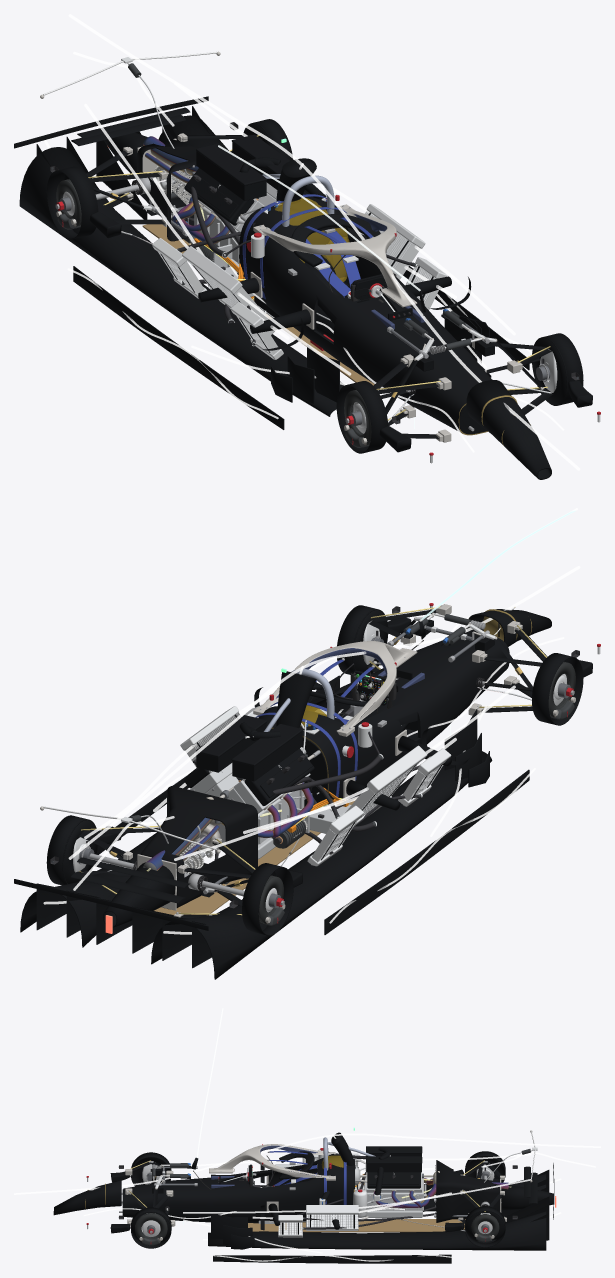
Rendered from sistemas-v1.glb.
3 renders of one model, top to bottom at view 1: azimuth 30°, elevation 25°; view 2: azimuth 150°, elevation 25°; view 3: azimuth 270°, elevation 25°, orthographic. The views are drawn at different scales.
Parts seen in each view (by area): view 1: structure__045__Célula de sobrevivência · sanduíche de carbo, aero__005__Túnel venturi direito · teto do assoalho, safety__842__Cone de impacto dianteiro · laminado, aero__006__Cerca de borda do assoalho direito, safety__831__Halo · arco principal, aero__042__Fluxo externo · eixo central, transmission__719__Carcaça do câmbio · estrutural, brakes__273__Tambor de refrigeração do freio traseiro direit, brakes__251__Tambor de refrigeração do freio dianteiro direi, cockpit__902__HANS · colar de carbono, fuel__684__Bexiga flexível · Kevlar/nitrílica, aero__032__Defletor lateral 1 direito (+29 smaller); view 2: structure__045__Célula de sobrevivência · sanduíche de carbo, aero__005__Túnel venturi direito · teto do assoalho, transmission__719__Carcaça do câmbio · estrutural, aero__006__Cerca de borda do assoalho direito, aero__001__Túnel venturi esquerdo · teto do assoalho, safety__831__Halo · arco principal, brakes__273__Tambor de refrigeração do freio traseiro direit, aero__042__Fluxo externo · eixo central, safety__846__Estrutura de impacto traseira, brakes__251__Tambor de refrigeração do freio dianteiro direi, structure__071__Plank · skid block, power__434__Snorkel do airbox → compressor (+28 smaller); view 3: structure__045__Célula de sobrevivência · sanduíche de carbo, aero__001__Túnel venturi esquerdo · teto do assoalho, transmission__719__Carcaça do câmbio · estrutural, aero__002__Cerca de borda do assoalho esquerdo, structure__071__Plank · skid block, safety__842__Cone de impacto dianteiro · laminado, aero__042__Fluxo externo · eixo central, safety__831__Halo · arco principal, safety__846__Estrutura de impacto traseira, power__333__Bloco do motor · cárter superior, aero__043__Fluxo externo · sidepod esquerdo, cooling__565__Intercooler ar-ar · núcleo aletado (+21 smaller).
Boxes of the visible parts, x1,y1,x2,y2 form: structure__045__Célula de sobrevivência · sanduíche de carbo: [239, 196, 491, 435]; aero__005__Túnel venturi direito · teto do assoalho: [19, 147, 344, 416]; safety__842__Cone de impacto dianteiro · laminado: [466, 379, 551, 479]; aero__006__Cerca de borda do assoalho direito: [73, 266, 284, 429]; safety__831__Halo · arco principal: [261, 208, 412, 303]; aero__042__Fluxo externo · eixo central: [68, 14, 580, 470]; transmission__719__Carcaça do câmbio · estrutural: [137, 139, 198, 241]; brakes__273__Tambor de refrigeração do freio traseiro direit: [46, 166, 98, 239]; brakes__251__Tambor de refrigeração do freio dianteiro direi: [336, 381, 388, 453]; cockpit__902__HANS · colar de carbono: [291, 214, 380, 267]; fuel__684__Bexiga flexível · Kevlar/nitrílica: [275, 197, 349, 281]; aero__032__Defletor lateral 1 direito: [307, 345, 339, 402]; structure__045__Célula de sobrevivência · sanduíche de carbo: [258, 631, 509, 805]; aero__005__Túnel venturi direito · teto do assoalho: [151, 751, 492, 979]; transmission__719__Carcaça do câmbio · estrutural: [137, 786, 257, 909]; aero__006__Cerca de borda do assoalho direito: [324, 769, 529, 934]; aero__001__Túnel venturi esquerdo · teto do assoalho: [20, 833, 197, 947]; safety__831__Halo · arco principal: [261, 641, 412, 728]; brakes__273__Tambor de refrigeração do freio traseiro direit: [242, 863, 293, 935]; aero__042__Fluxo externo · eixo central: [68, 566, 580, 859]; safety__846__Estrutura de impacto traseira: [103, 862, 175, 927]; brakes__251__Tambor de refrigeração do freio dianteiro direi: [532, 653, 583, 725]; structure__071__Plank · skid block: [154, 798, 356, 915]; power__434__Snorkel do airbox → compressor: [276, 671, 316, 727]; structure__045__Célula de sobrevivência · sanduíche de carbo: [123, 1154, 354, 1223]; aero__001__Túnel venturi esquerdo · teto do assoalho: [208, 1211, 546, 1250]; transmission__719__Carcaça do câmbio · estrutural: [436, 1160, 499, 1222]; aero__002__Cerca de borda do assoalho esquerdo: [213, 1254, 451, 1263]; structure__071__Plank · skid block: [248, 1219, 465, 1232]; safety__842__Cone de impacto dianteiro · laminado: [53, 1180, 121, 1215]; aero__042__Fluxo externo · eixo central: [14, 1133, 600, 1194]; safety__831__Halo · arco principal: [209, 1144, 329, 1177]; safety__846__Estrutura de impacto traseira: [501, 1185, 554, 1210]; power__333__Bloco do motor · cárter superior: [364, 1177, 423, 1210]; aero__043__Fluxo externo · sidepod esquerdo: [183, 1179, 530, 1213]; cooling__565__Intercooler ar-ar · núcleo aletado: [306, 1214, 358, 1228].
Bounding box in the file's own units: 2.09 × 1.9 × 5.9.
Materials: 64 (8 with a texture image).
